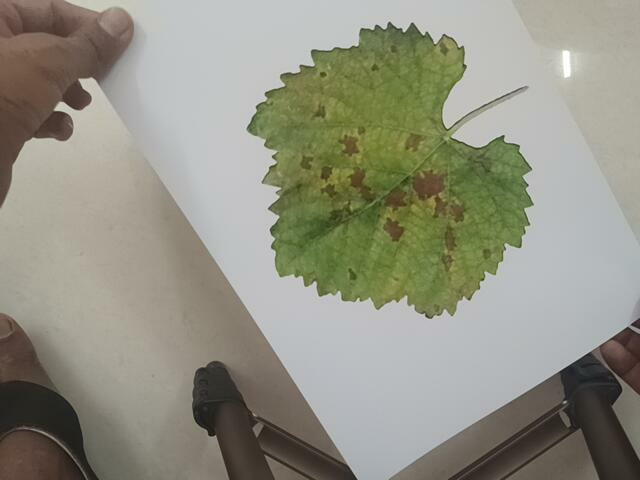Grape_Leaf_Vine_Disease: (231, 20, 572, 318)
